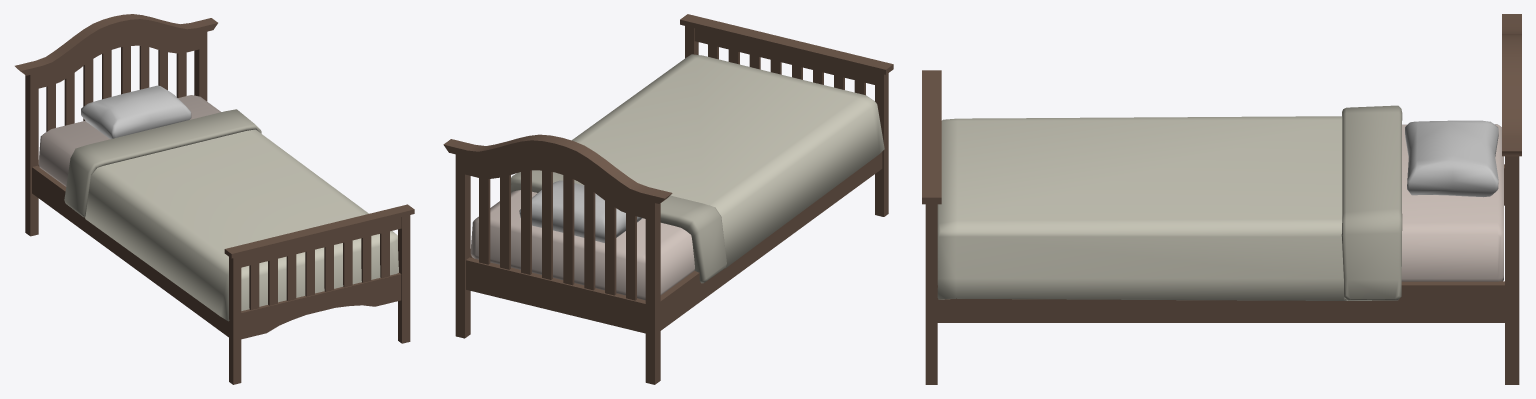
File: Bed_01_Single.fbx
3 renders of one model, left to right at view 1: azimuth 30°, elevation 25°; view 2: azimuth 150°, elevation 25°; view 3: azimuth 270°, elevation 25°, orthographic. The views are drawn at different scales.
Parts seen in each view (by area): view 1: Bed_01_Single, Bed_01_Single_Pillow; view 2: Bed_01_Single, Bed_01_Single_Pillow; view 3: Bed_01_Single, Bed_01_Single_Pillow.
Boxes of the visible parts, x1=… form: Bed_01_Single: x1=15, y1=14, x2=414, y2=384; Bed_01_Single_Pillow: x1=81, y1=85, x2=191, y2=139; Bed_01_Single: x1=443, y1=14, x2=893, y2=384; Bed_01_Single_Pillow: x1=519, y1=180, x2=641, y2=242; Bed_01_Single: x1=922, y1=14, x2=1521, y2=384; Bed_01_Single_Pillow: x1=1405, y1=120, x2=1498, y2=197.
Size of the model in its own units: 1.09 by 1.02 by 2.01.
